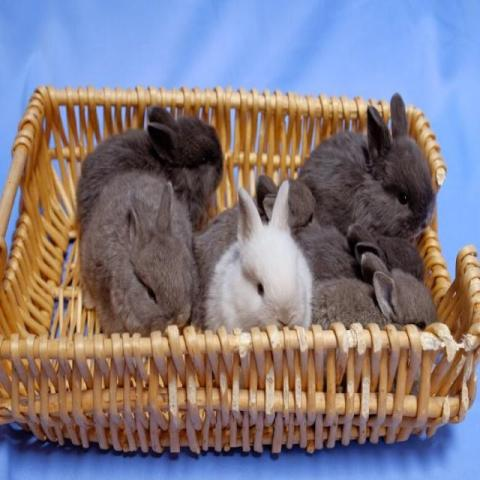small_animal: (295, 92, 438, 244), (69, 108, 225, 238), (81, 170, 197, 333), (197, 179, 314, 333), (296, 253, 437, 346)
